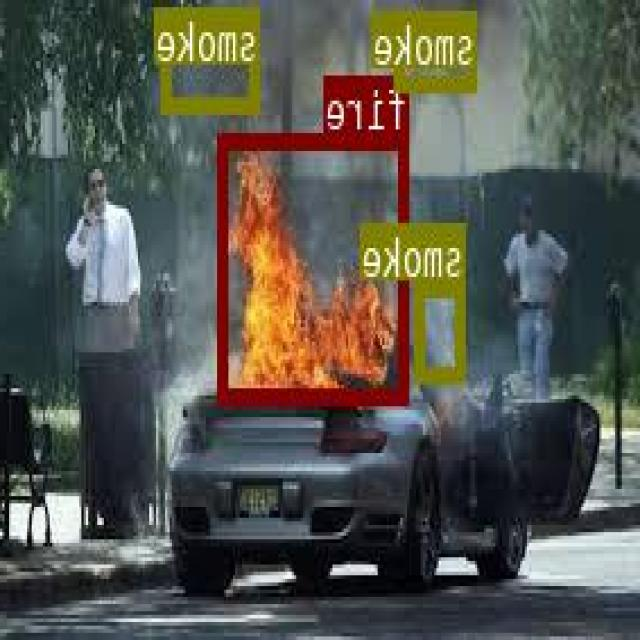fire: (221, 131, 410, 400)
smoke: (164, 7, 261, 108), (398, 9, 478, 89), (417, 279, 466, 378)
